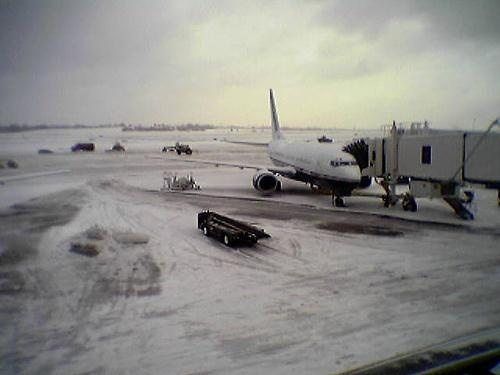aeroplane: (145, 90, 363, 209)
